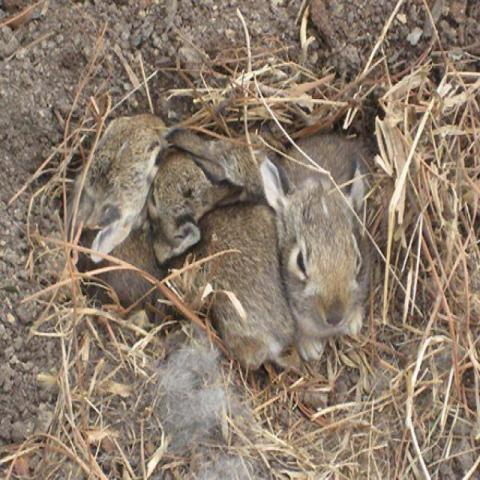small_animal: (53, 197, 288, 369), (264, 132, 374, 362), (41, 112, 171, 269)
